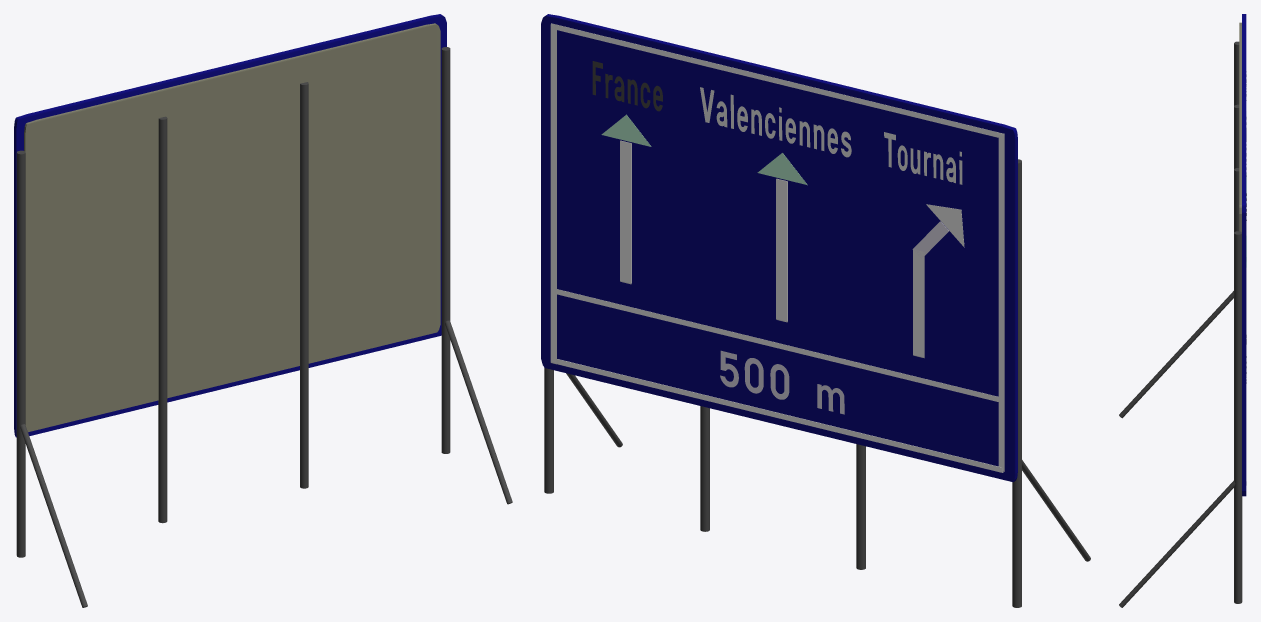
The model's file is roadsignbelgium2.obj.
The picture shows the model from 3 angles, left to right: view 1: azimuth 30°, elevation 25°; view 2: azimuth 150°, elevation 25°; view 3: azimuth 270°, elevation 25°; orthographic projection. The views are drawn at different scales.
Parts seen in each view (by area): view 1: Cube.005, Cube, Cylinder.002, Cylinder.003, Cylinder, Cylinder.001, Cylinder.005, Cylinder.004; view 2: Cube, Cube.002, Cube.001, Cube.012, Cylinder.003, Cube.003, Cube.004, Text.001, Text.003, Cube.007, Cube.009, Cube.010 (+6 smaller); view 3: Cylinder, Cube, Cylinder.005, Cylinder.004, Cube.005, Cylinder.001, Cylinder.002, Cylinder.003.
Boxes of the visible parts, x1,y1,x2,y2 form: Cube.005: (24,23,440,432); Cube: (14,14,446,437); Cylinder.002: (158,116,167,523); Cylinder.003: (16,150,25,557); Cylinder: (441,47,450,453); Cylinder.001: (300,82,308,488); Cylinder.005: (445,320,512,504); Cylinder.004: (20,424,87,607); Cube: (541,14,1017,482); Cube.002: (556,359,1003,472); Cube.001: (553,24,998,137); Cube.012: (555,288,998,401); Cylinder.003: (1012,159,1021,607); Cube.003: (550,23,556,364); Cube.004: (998,132,1004,471); Text.001: (700,87,851,157); Text.003: (720,350,844,414); Cube.007: (620,140,631,284); Cube.009: (776,178,787,322); Cube.010: (913,249,924,358); Cylinder: (1234,231,1242,603); Cube: (1242,14,1246,496); Cylinder.005: (1119,480,1235,607); Cylinder.004: (1119,291,1233,418); Cube.005: (1239,22,1241,231); Cylinder.001: (1234,168,1239,232); Cylinder.002: (1234,104,1239,169); Cylinder.003: (1234,41,1239,105).
Bounding box in the file's own units: 3.05 × 2.98 × 0.8551.
